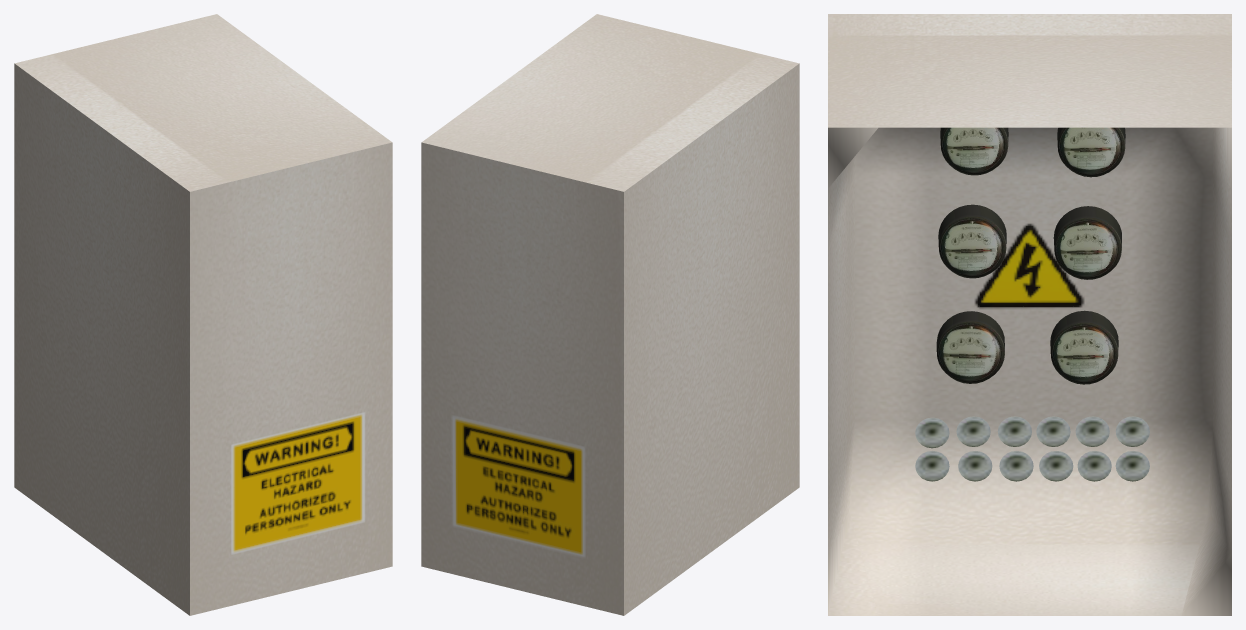
Rendered from Fuse_Box.fbx.
The picture shows the model from 3 angles, left to right: view 1: azimuth 30°, elevation 25°; view 2: azimuth 150°, elevation 25°; view 3: azimuth 270°, elevation 25°; orthographic projection. The views are drawn at different scales.
Parts seen in each view (by area): view 1: BoxCase; view 2: BoxCase; view 3: BoxCase, pasted__polySurface2_Counter, fuse5, fuse3, fuse9, fuse10, fuse, fuse7, fuse11, fuse12, fuse4, fuse6 (+2 smaller).
Part boxes in pixels (x1,y1,x2,y2): BoxCase: (14, 14, 392, 615); BoxCase: (421, 14, 799, 615); BoxCase: (828, 14, 1231, 615); pasted__polySurface2_Counter: (936, 127, 1125, 384); fuse5: (1075, 416, 1109, 446); fuse3: (956, 416, 990, 446); fuse9: (1039, 451, 1073, 481); fuse10: (999, 451, 1033, 481); fuse: (997, 416, 1031, 446); fuse7: (1077, 451, 1111, 481); fuse11: (958, 451, 992, 481); fuse12: (915, 450, 949, 481); fuse4: (1036, 416, 1070, 446); fuse6: (1115, 416, 1149, 446).
Bounding box in the file's own units: 4 × 8 × 6.
